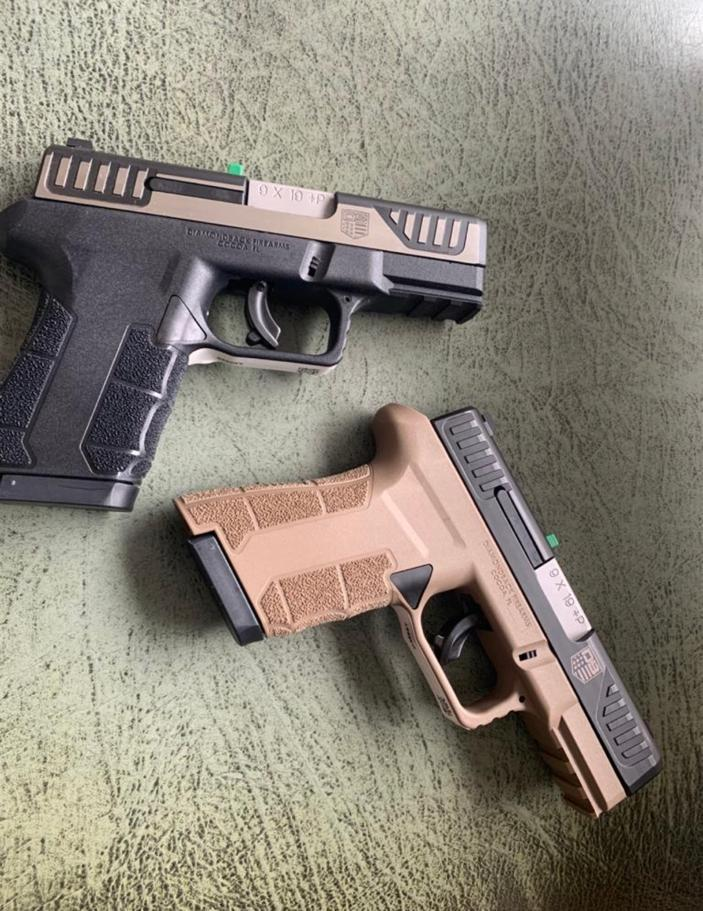weapon: (174, 402, 663, 816), (0, 136, 490, 511)
